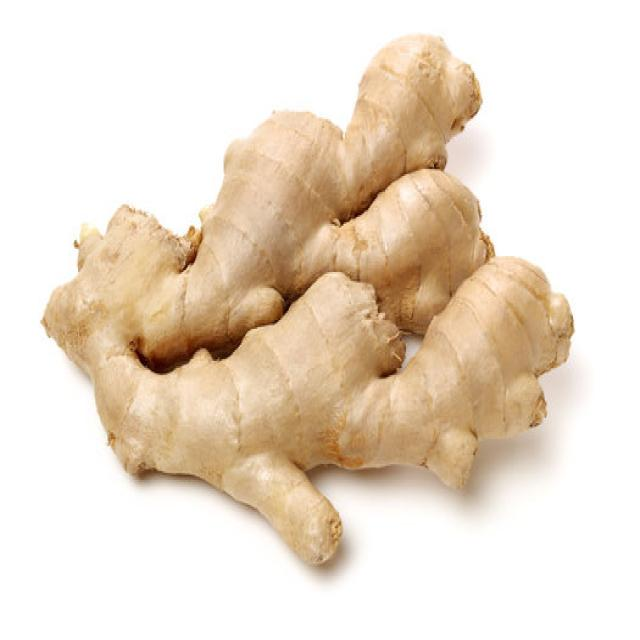Ginger: (40, 30, 574, 567)
